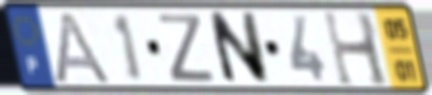1: (111, 11, 143, 84)
4: (287, 13, 329, 84)
A: (50, 9, 114, 86)
H: (320, 8, 393, 89)
N: (205, 10, 272, 87)
Z: (155, 11, 217, 84)
